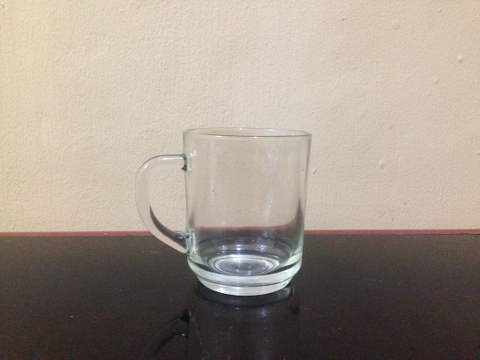tempat minum: (134, 127, 311, 296)
